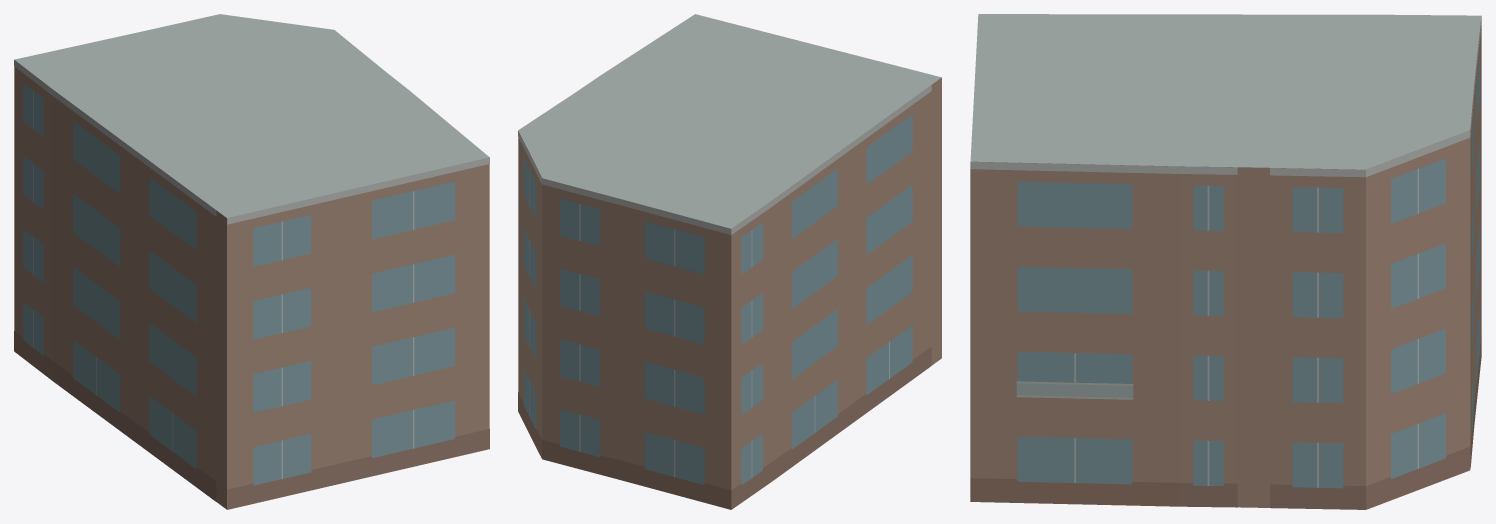
Rendered from survey-upis-32914490.glb.
3 renders of one model, left to right at view 1: azimuth 30°, elevation 25°; view 2: azimuth 150°, elevation 25°; view 3: azimuth 270°, elevation 25°, orthographic. The views are drawn at different scales.
Parts seen in each view (by area): view 1: survey-upis-32914490.tmp; view 2: survey-upis-32914490.tmp; view 3: survey-upis-32914490.tmp.
Part boxes in pixels (x1,y1,x2,y2): survey-upis-32914490.tmp: (14,14,489,509); survey-upis-32914490.tmp: (518,14,941,509); survey-upis-32914490.tmp: (970,14,1481,509).
Size of the model in its own units: 10.7 by 10.9 by 14.85.
